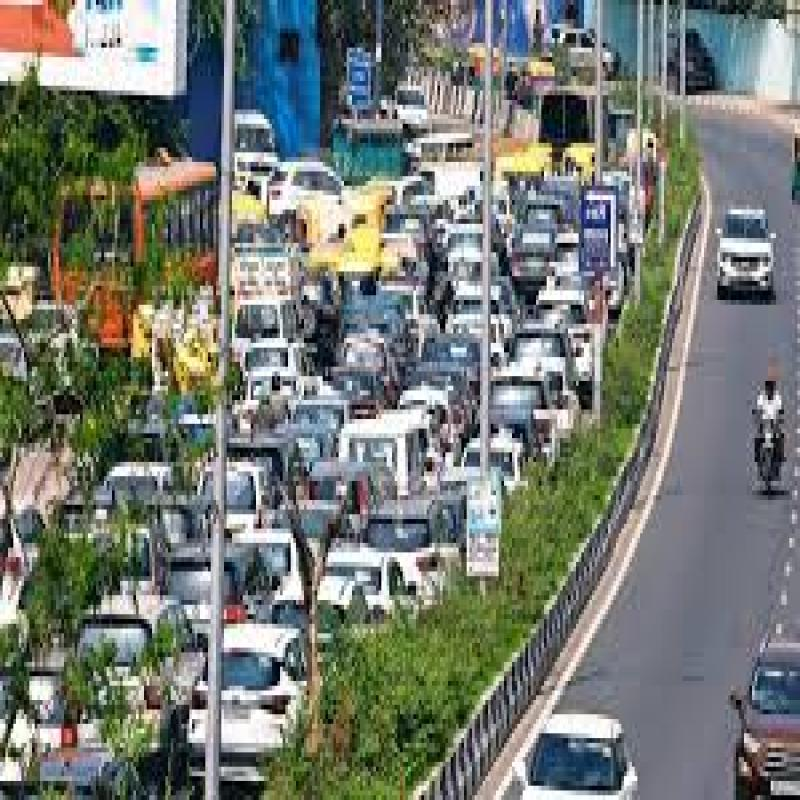car: (474, 690, 620, 800), (725, 593, 800, 800), (712, 195, 780, 304)
